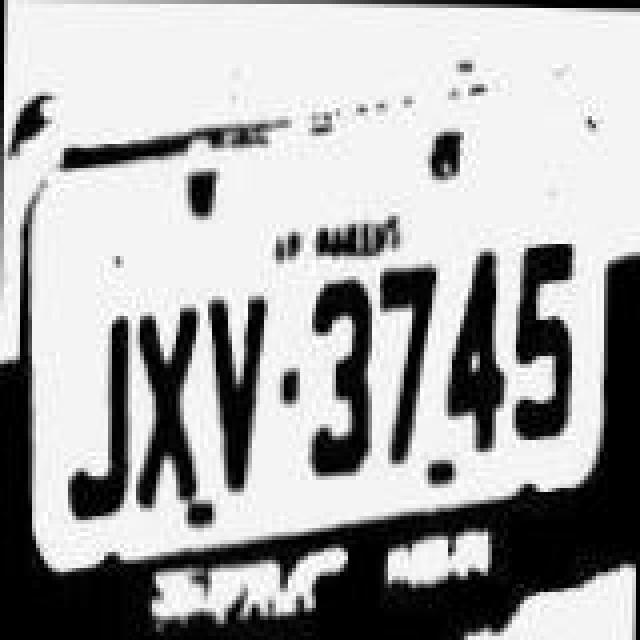3: (298, 272, 378, 492)
4: (444, 236, 516, 460)
5: (514, 236, 590, 468)
7: (372, 262, 444, 466)
J: (60, 298, 136, 526)
V: (202, 284, 274, 500)
X: (130, 288, 202, 508)
